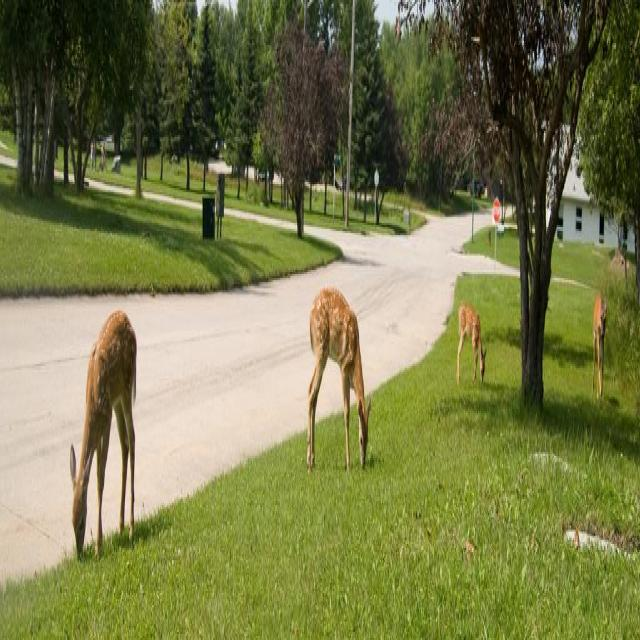Deer: (70, 307, 136, 548), (308, 292, 371, 472), (458, 304, 488, 386), (593, 296, 606, 390)
